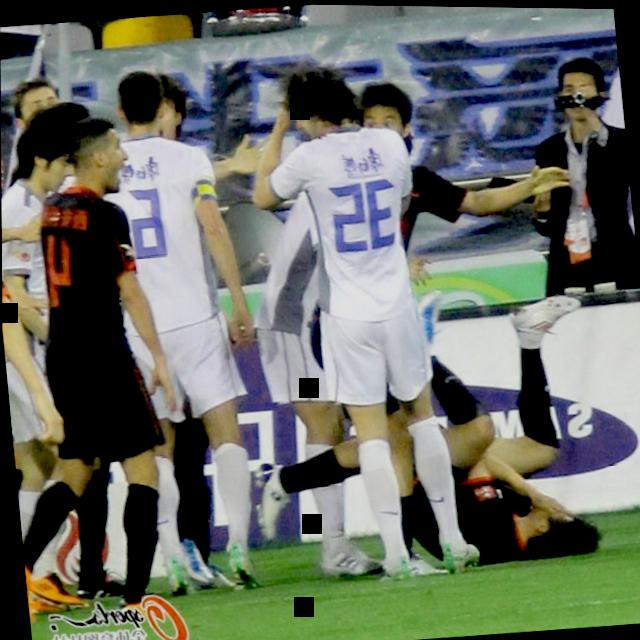Fall-Detected: (395, 279, 624, 583)
